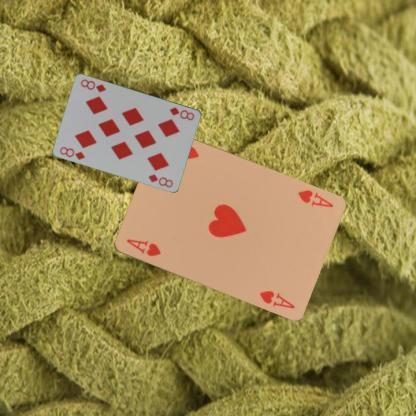8d: (167, 103, 196, 121), (57, 144, 87, 160)
Ah: (294, 187, 335, 209), (124, 236, 162, 258)
